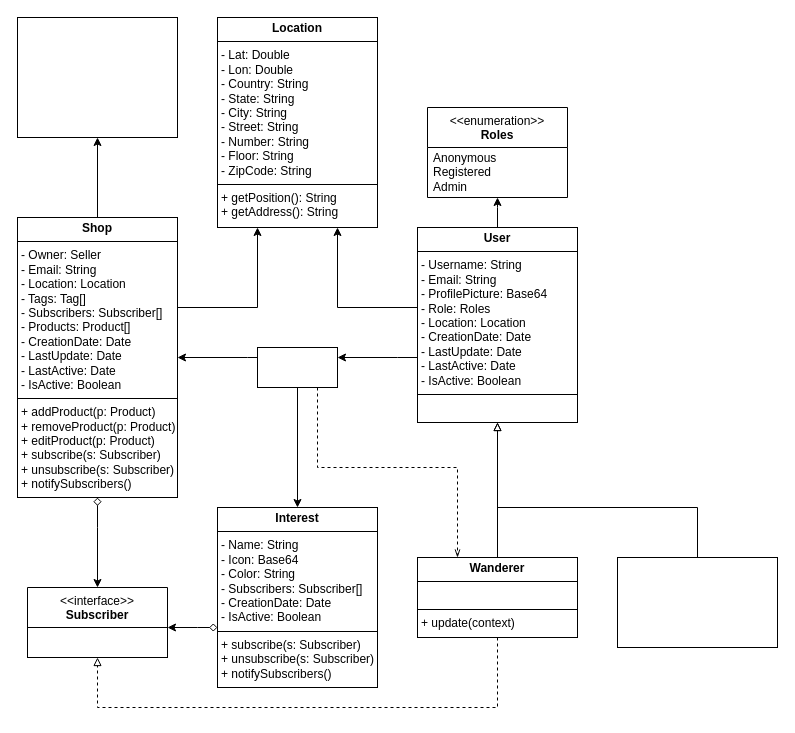
Some shapes in this 795 by 733 pixel diagram are drawn without their labels. Here are the shapes that lost their labels. From the top down, the centre of each, then its label:
At (97,77): "Product - Name: String - Description: String - Price: Double - Picture: Base64".
At (297,367): "Admin".
At (697,602): "Seller".
At (97,642): "+ update(context)".
